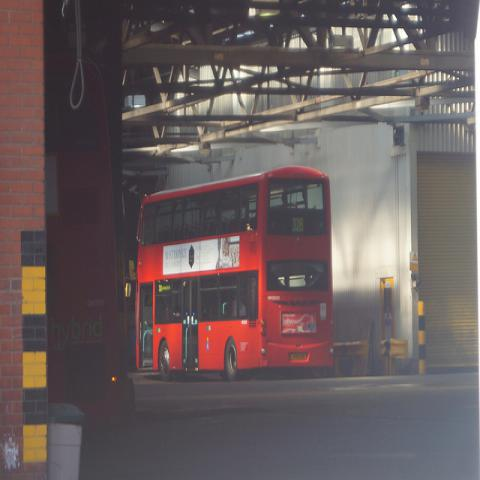bus: (134, 167, 334, 383)
